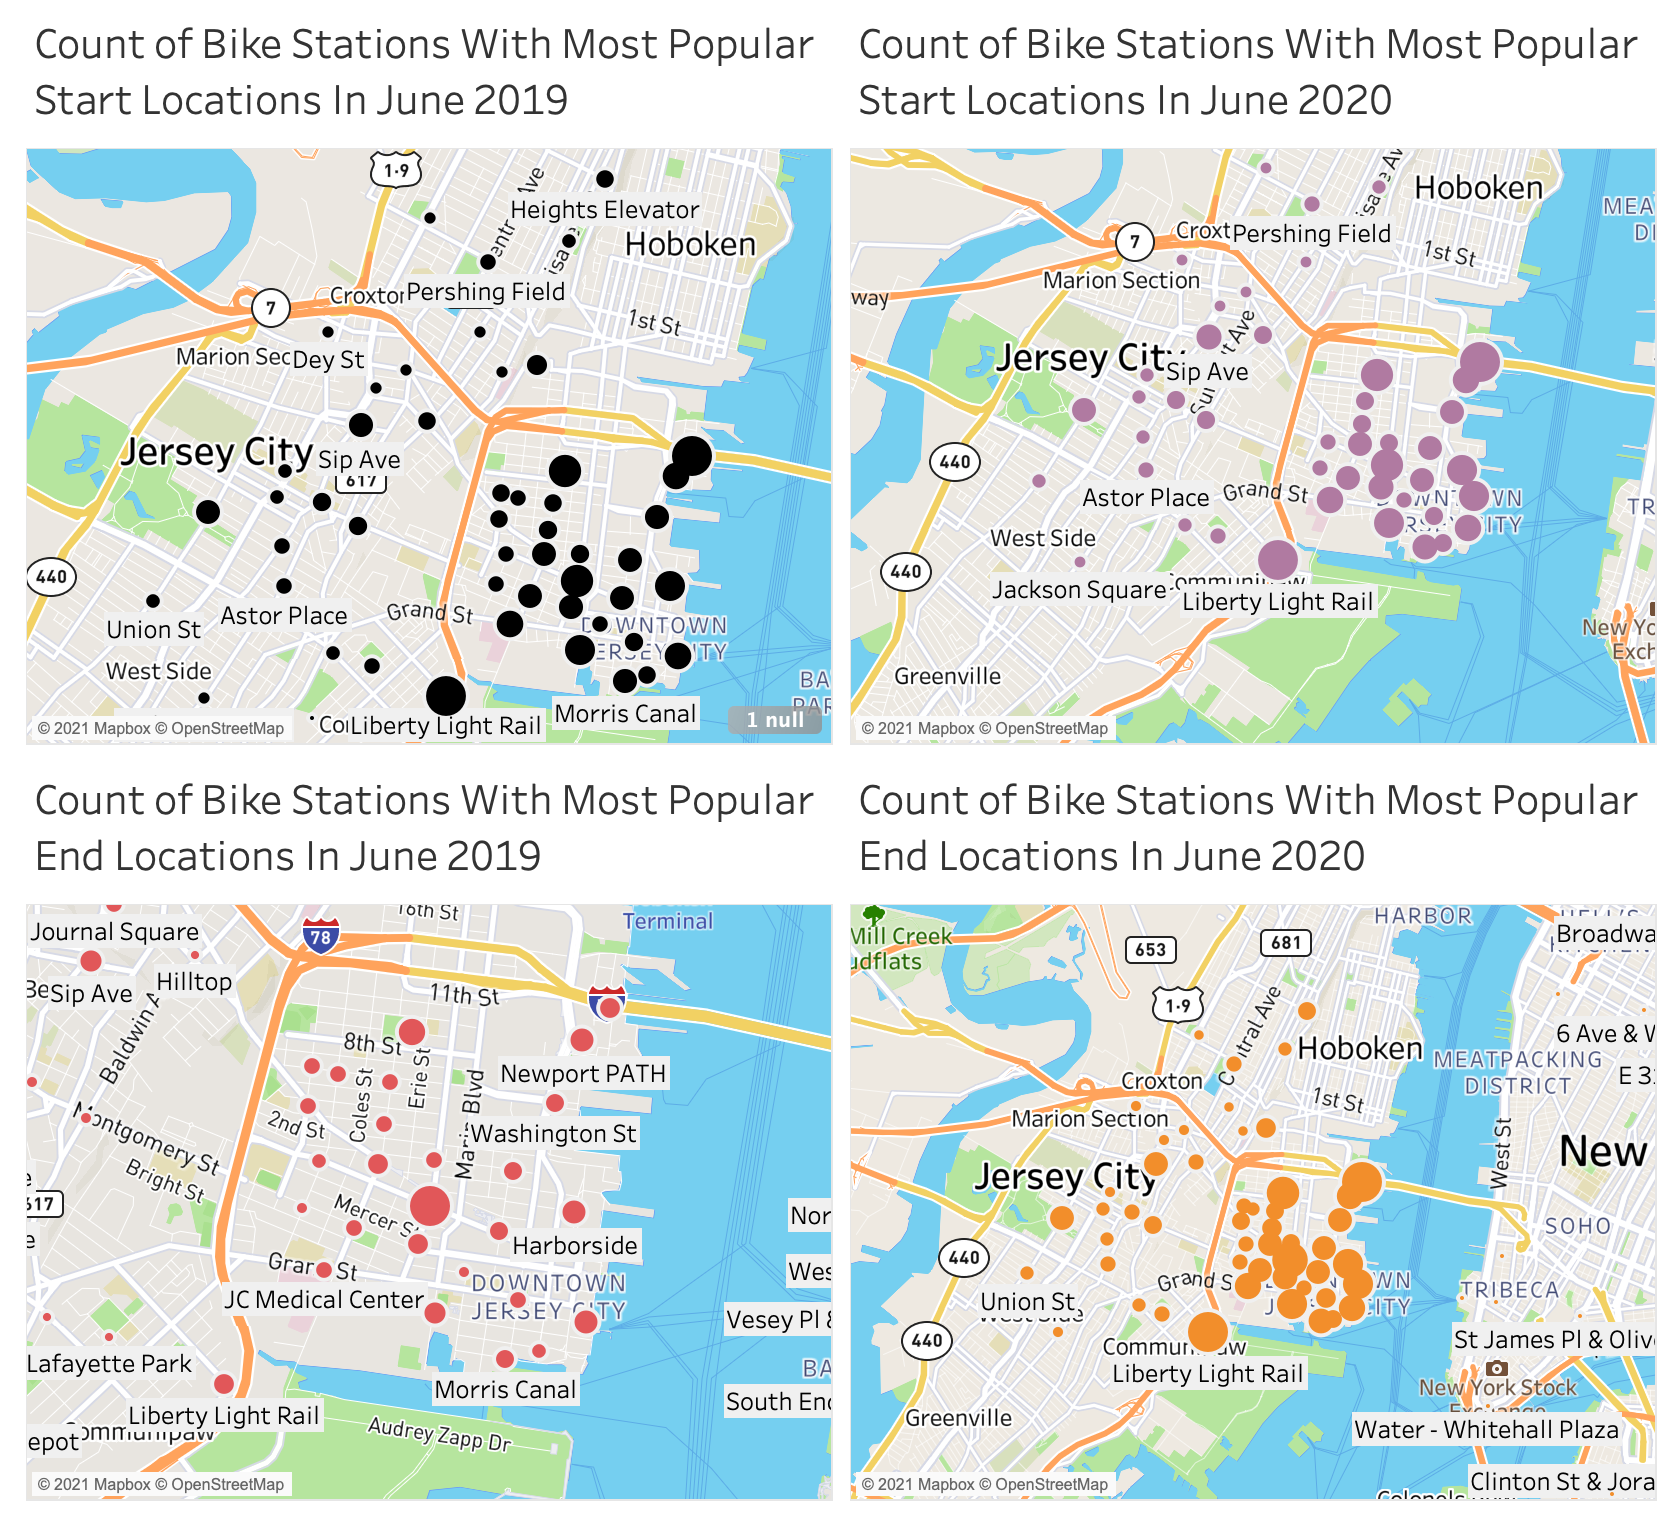

Layout of this report page (visuals, bound fields, positions):
{"tool":"tableau","page":{"name":"Bike Stations Start and End Locations From 2019-2020","canvas":[1000,1000],"units":"permille","ordinal":0},"visuals":[{"type":"title","box":[6.5,9.9,987,52]},{"type":"worksheet","title":"Count of Bike Stations With Most Popular Start Locations In June 2019","mark":"Automatic","rows":["Start Station Latitude"],"cols":["Start Station Longitude"],"box":[6.5,61.9,428.4,464.1]},{"type":"worksheet","title":"Count of Bike Stations With Most Popular Start Locations In June 2020","mark":"Automatic","rows":["Start Station Latitude (2020_june_citibike_tripdata_cleaned."],"cols":["Start Station Longitude (2020_june_citibike_tripdata_cleaned"],"box":[434.9,61.9,428.4,464.1]},{"type":"legend","title":"Count of Bike Stations With Most Popular Start Locations In June 2019","param":"[federated.0l9hs8w02tnjxp1b2uwqu1uhna7q].[cnt:Bike ID (2020_june_citibike_tripda","box":[863.3,61.9,130.2,180.7]},{"type":"highlighter","title":"Count of Bike Stations With Most Popular Start Locations In June 2019","param":"[federated.0l9hs8w02tnjxp1b2uwqu1uhna7q].[none:Start Station Name (2020_june_cit","box":[863.3,242.6,130.2,64.4]},{"type":"legend","title":"Count of Bike Stations With Most Popular End Locations In June 2019","param":"[federated.0l9hs8w02tnjxp1b2uwqu1uhna7q].[cnt:Bike ID:qk]","box":[863.3,306.9,130.2,180.7]},{"type":"highlighter","title":"Count of Bike Stations With Most Popular End Locations In June 2019","param":"[federated.0l9hs8w02tnjxp1b2uwqu1uhna7q].[none:End Station Name:nk]","box":[863.3,487.6,130.2,64.4]},{"type":"worksheet","title":"Count of Bike Stations With Most Popular End Locations In June 2019","mark":"Automatic","rows":["End Station Latitude"],"cols":["End Station Longitude"],"box":[6.5,526,428.4,464.1]},{"type":"worksheet","title":"Count of Bike Stations With Most Popular End Locations In June 2020","mark":"Automatic","rows":["End Station Latitude (2020_june_citibike_tripdata_cleaned.cs"],"cols":["End Station Longitude (2020_june_citibike_tripdata_cleaned.c"],"box":[434.9,526,428.4,464.1]},{"type":"highlighter","title":"Count of Bike Stations With Most Popular Start Locations In June 2020","param":"[federated.0l9hs8w02tnjxp1b2uwqu1uhna7q].[none:Start Station Name (2020_june_cit","box":[863.3,552,130.2,64.4]},{"type":"highlighter","title":"Count of Bike Stations With Most Popular End Locations In June 2020","param":"[federated.0l9hs8w02tnjxp1b2uwqu1uhna7q].[none:End Station Name (2020_june_citib","box":[863.3,616.3,130.2,64.4]}]}

Visuals, with their boxes on the dashboard's canvas, which has no fixed pixel size, in thousandths of its width and height (x1, y1, x2, y2). These are canvas units, not pixel positions in the 1672x1528 screenshot, which may show the page scaled, cropped or inside an application window:
title: [left=6, top=10, right=994, bottom=62]
"Count of Bike Stations With Most Popular Start Locations In June 2019" worksheet: [left=6, top=62, right=435, bottom=526]
"Count of Bike Stations With Most Popular Start Locations In June 2020" worksheet: [left=435, top=62, right=863, bottom=526]
"Count of Bike Stations With Most Popular Start Locations In June 2019" legend: [left=863, top=62, right=994, bottom=243]
"Count of Bike Stations With Most Popular Start Locations In June 2019" highlighter: [left=863, top=243, right=994, bottom=307]
"Count of Bike Stations With Most Popular End Locations In June 2019" legend: [left=863, top=307, right=994, bottom=488]
"Count of Bike Stations With Most Popular End Locations In June 2019" highlighter: [left=863, top=488, right=994, bottom=552]
"Count of Bike Stations With Most Popular End Locations In June 2019" worksheet: [left=6, top=526, right=435, bottom=990]
"Count of Bike Stations With Most Popular End Locations In June 2020" worksheet: [left=435, top=526, right=863, bottom=990]
"Count of Bike Stations With Most Popular Start Locations In June 2020" highlighter: [left=863, top=552, right=994, bottom=616]
"Count of Bike Stations With Most Popular End Locations In June 2020" highlighter: [left=863, top=616, right=994, bottom=681]
